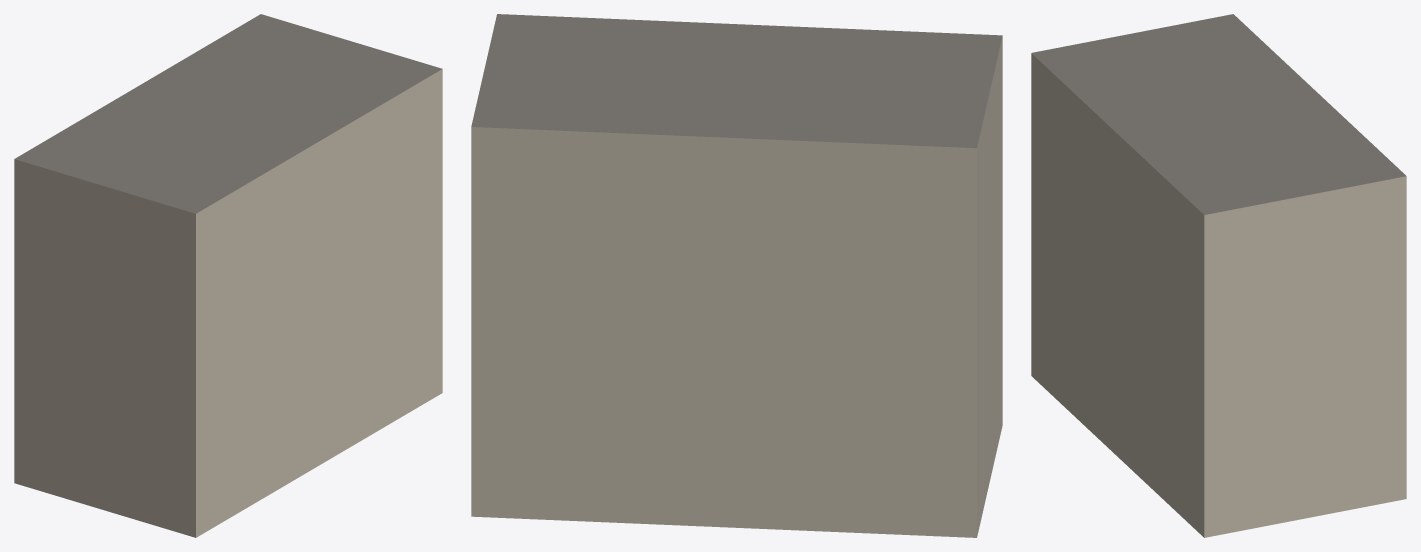
3 views of the same model, side by side, from view 1: azimuth 30°, elevation 25°; view 2: azimuth 150°, elevation 25°; view 3: azimuth 270°, elevation 25° (orthographic). The views are drawn at different scales.
Visible parts, largest first — view 1: HP-w378107102; view 2: HP-w378107102; view 3: HP-w378107102.
Boxes of the visible parts, bbox=[...] form: HP-w378107102: bbox=[14, 14, 442, 537]; HP-w378107102: bbox=[471, 14, 1002, 537]; HP-w378107102: bbox=[1031, 14, 1406, 537].
Size of the model in its own units: 24.05 by 18 by 18.98.
